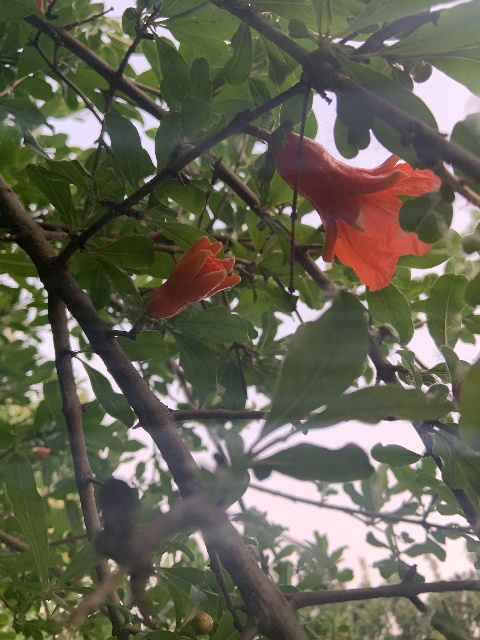bud: (186, 612, 213, 635)
flower: (283, 136, 440, 291), (146, 235, 241, 318)
